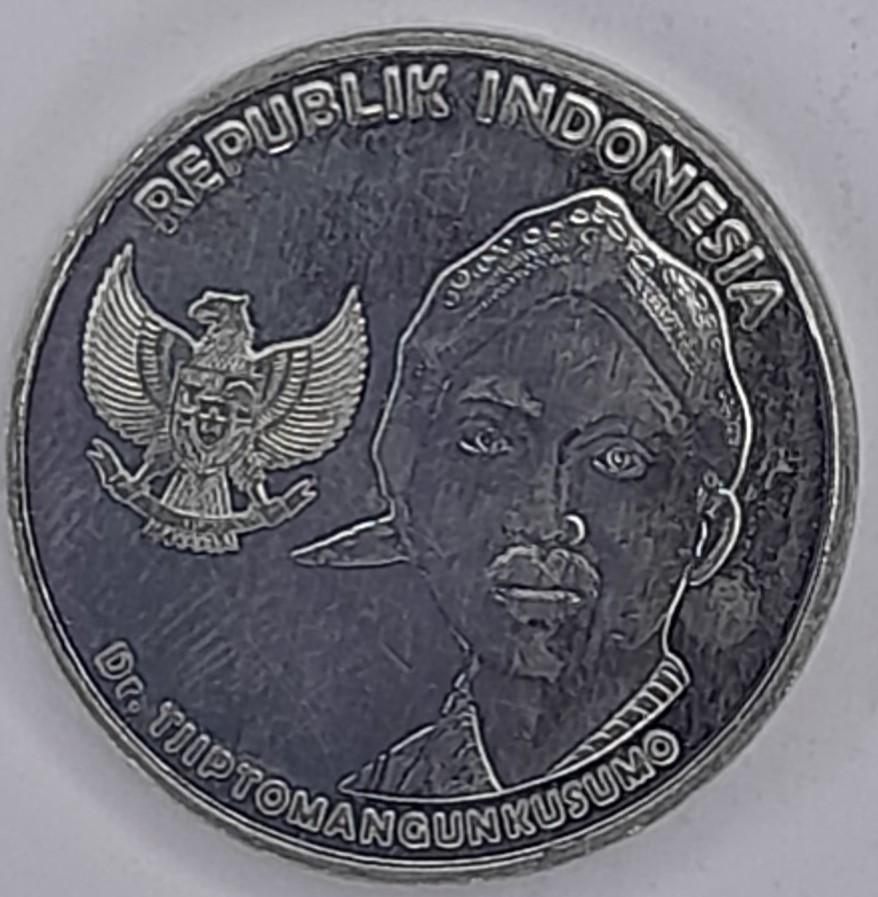coin_200_e2016: (0, 16, 878, 897)
